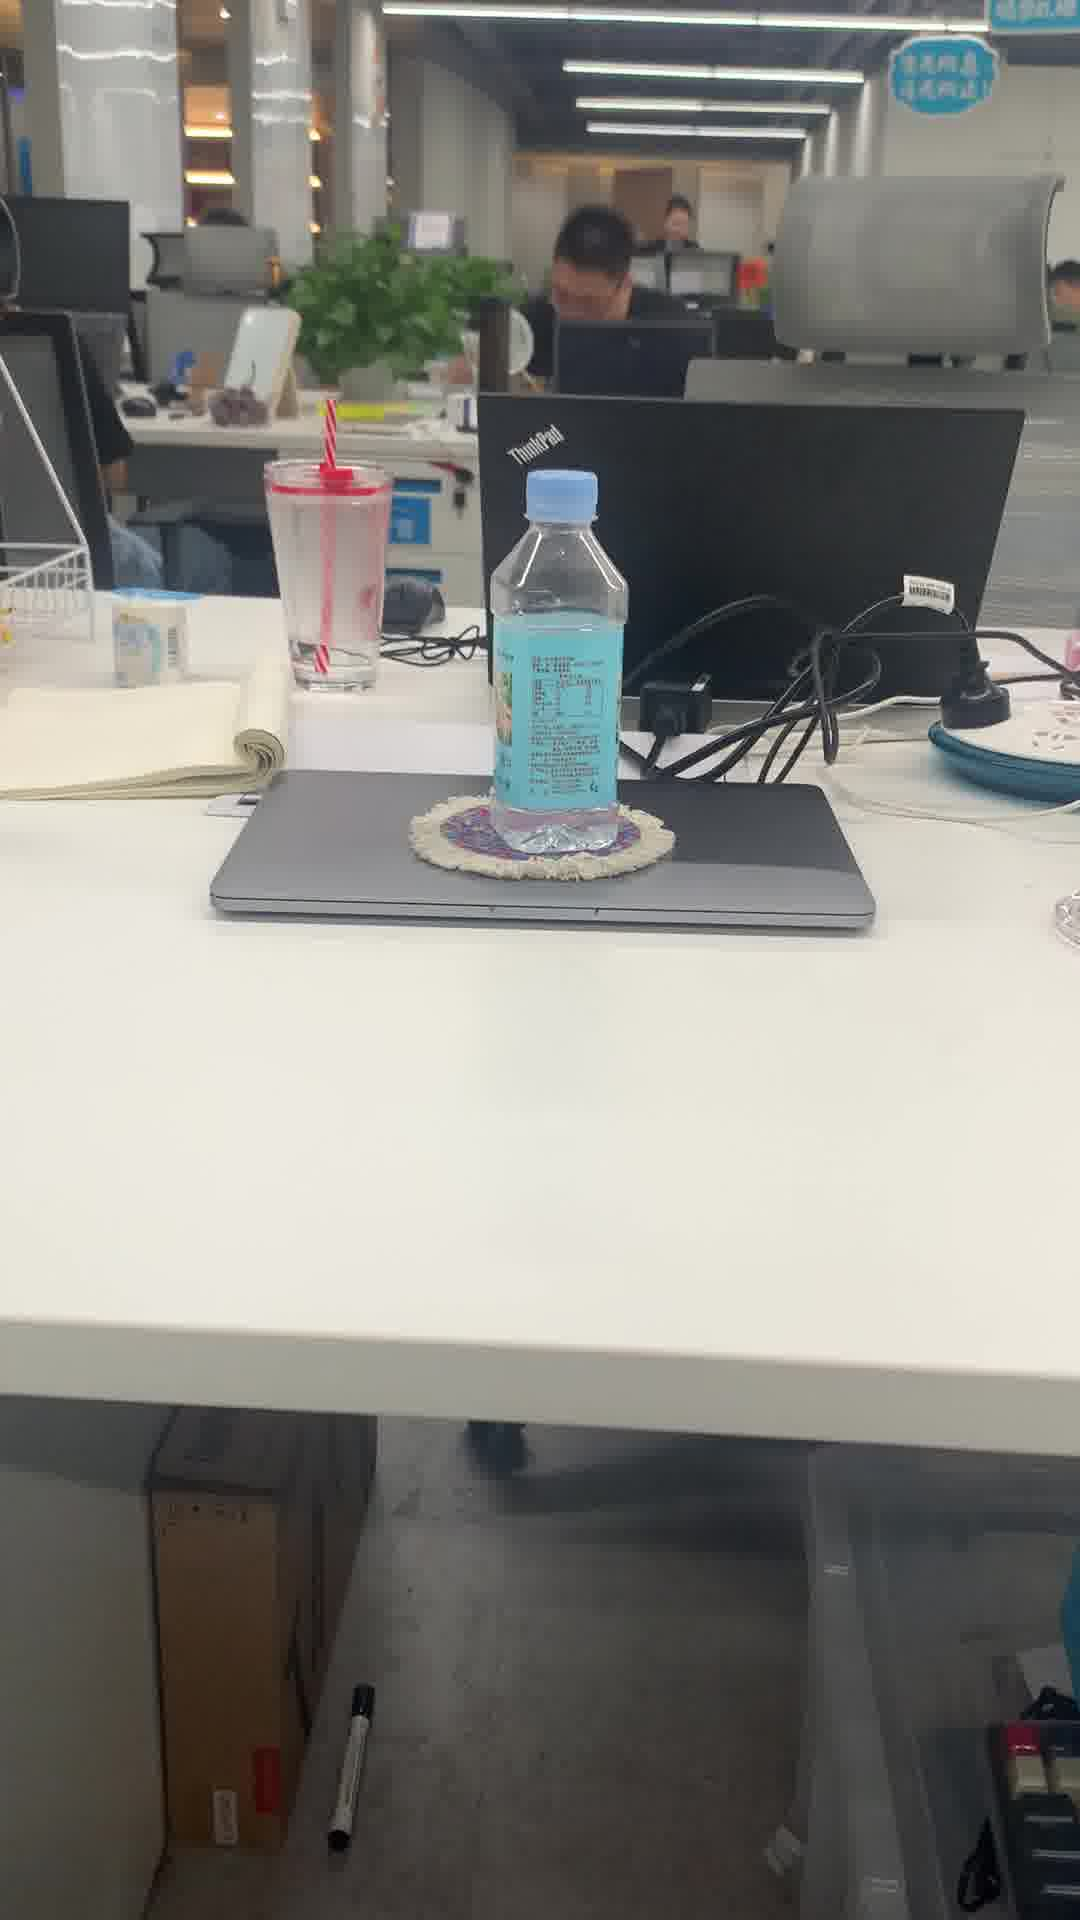水瓶: (485, 465, 626, 851)
